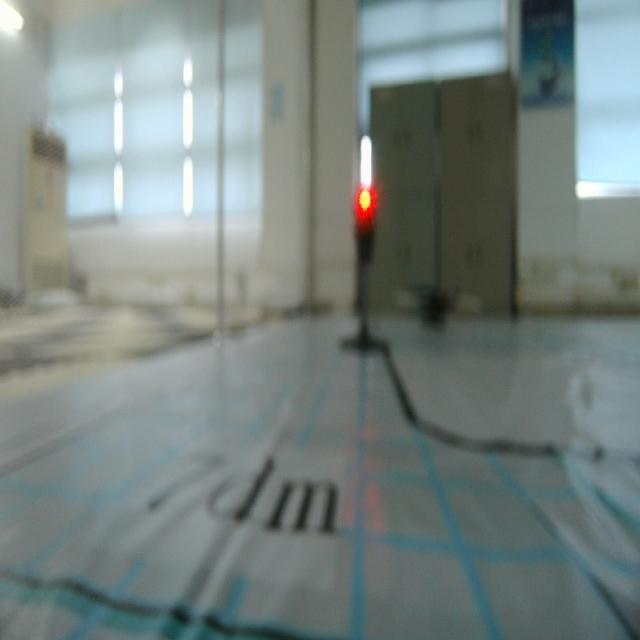red: (351, 183, 377, 265)
